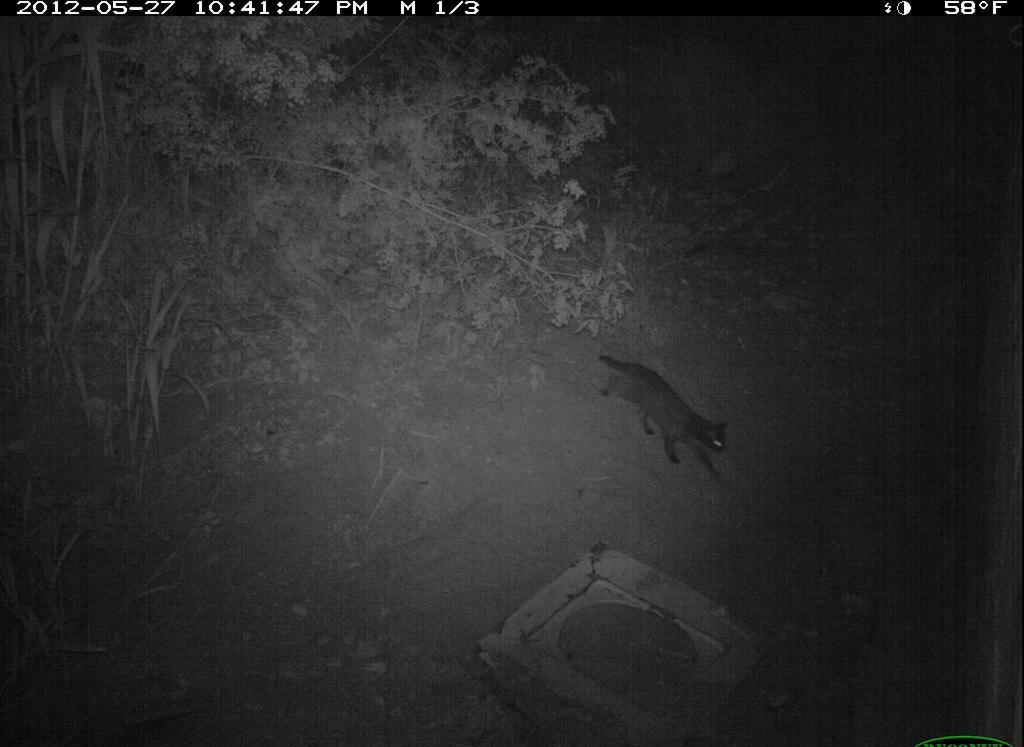cat: (593, 347, 734, 488)
